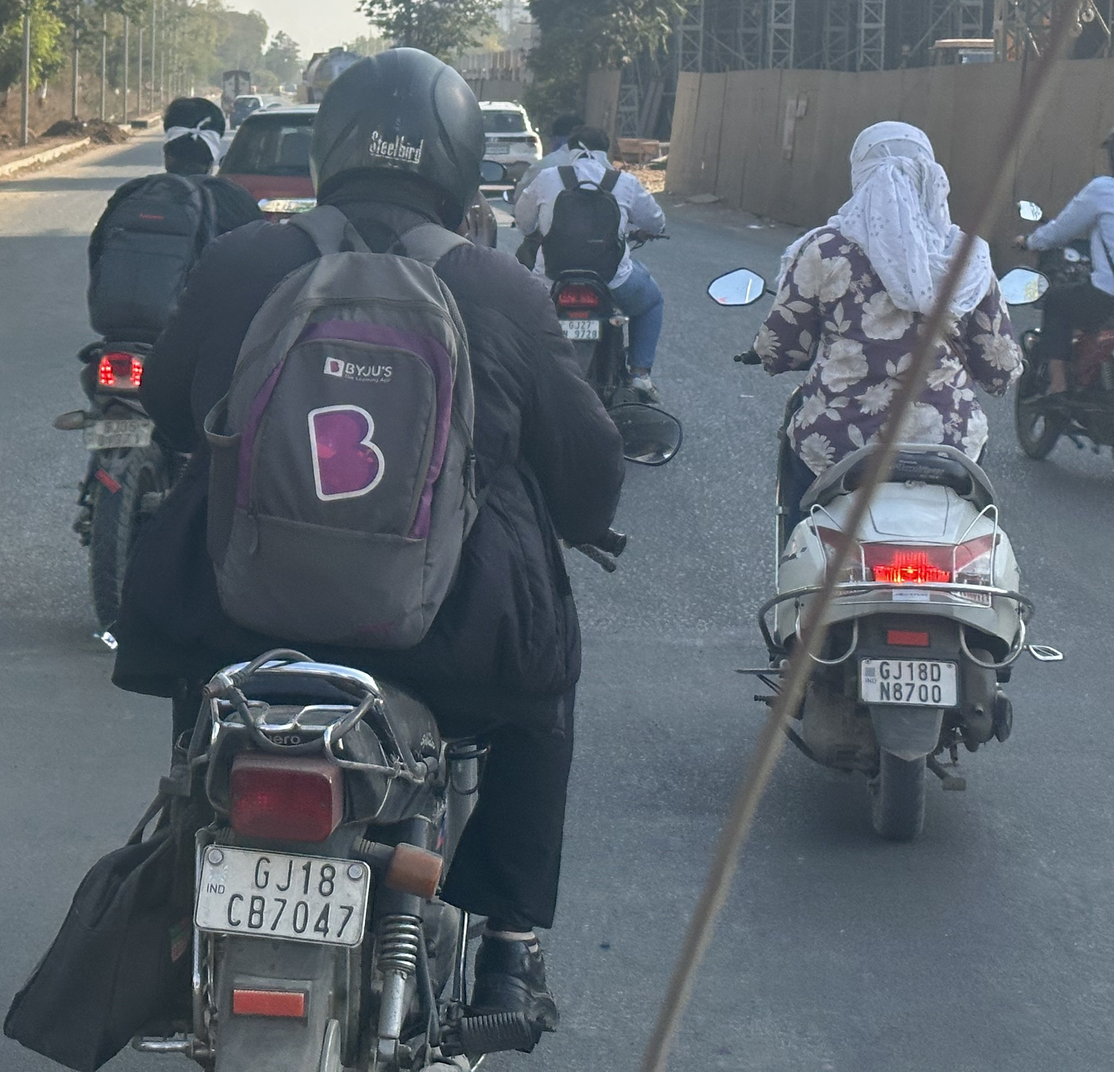BikeWithRider: (1, 37, 690, 1071), (701, 112, 1071, 852), (43, 85, 284, 653), (504, 103, 686, 466), (997, 133, 1114, 477)
Helmet: (299, 38, 496, 248), (151, 89, 233, 180)
NoHelmet: (834, 113, 952, 223), (565, 122, 615, 171), (548, 106, 590, 154)
